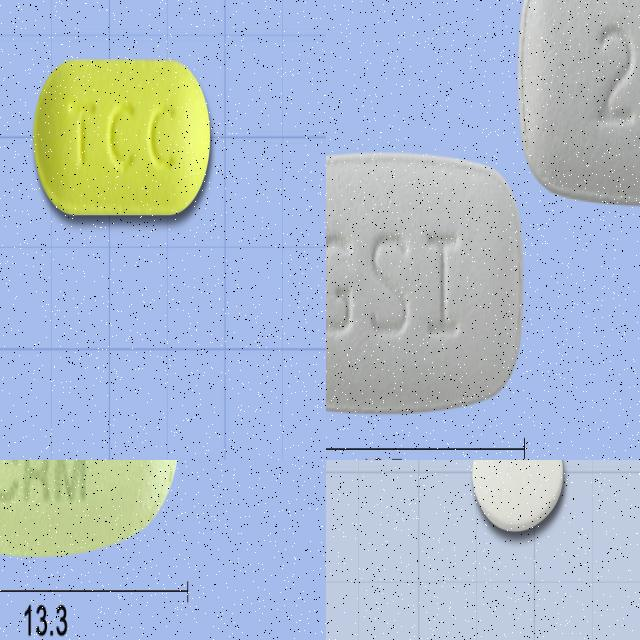CLARITYNE: (470, 460, 566, 538)
Clycin Tab-500mg: (34, 58, 210, 216)
Crema: (0, 460, 181, 555)
Descovy -25mg: (326, 150, 524, 415), (517, 0, 640, 209)
